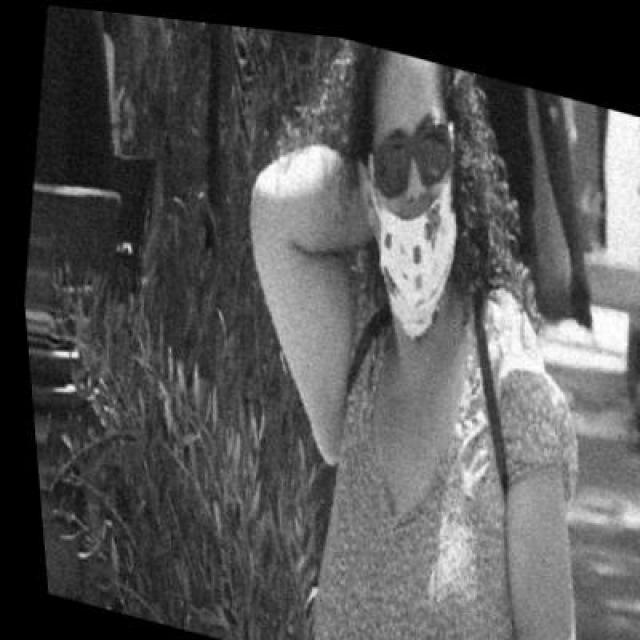hairnet: (341, 89, 477, 338)
